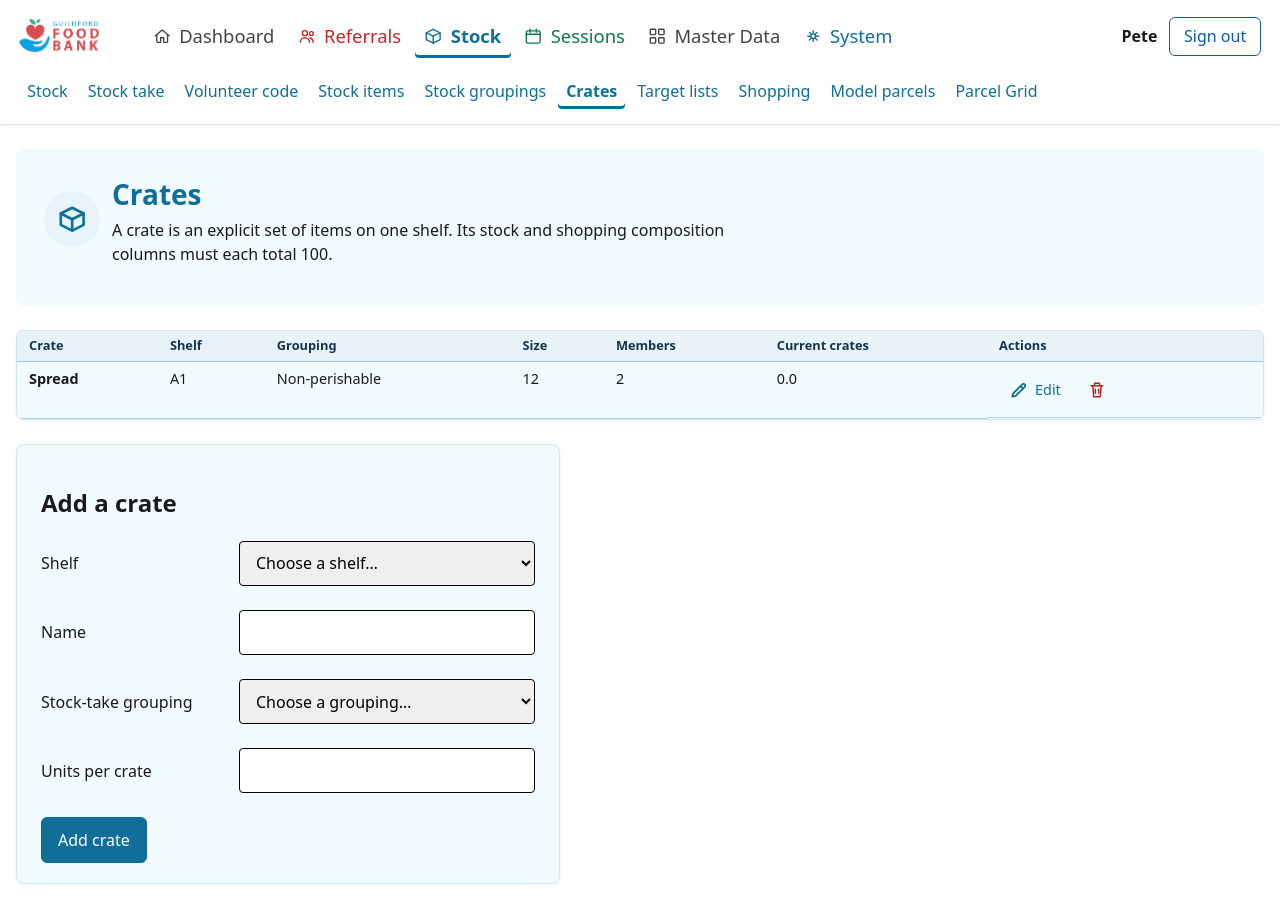
Test: crate deletion › treats the documented empty delete response as success and restores direct grouping
The image size is (1280, 900).
What coordinates should you click on to do the following:
click the button named "Delete Spread"
I would click on:
 (1097, 390)
Its box is [1075,368,1119,412].
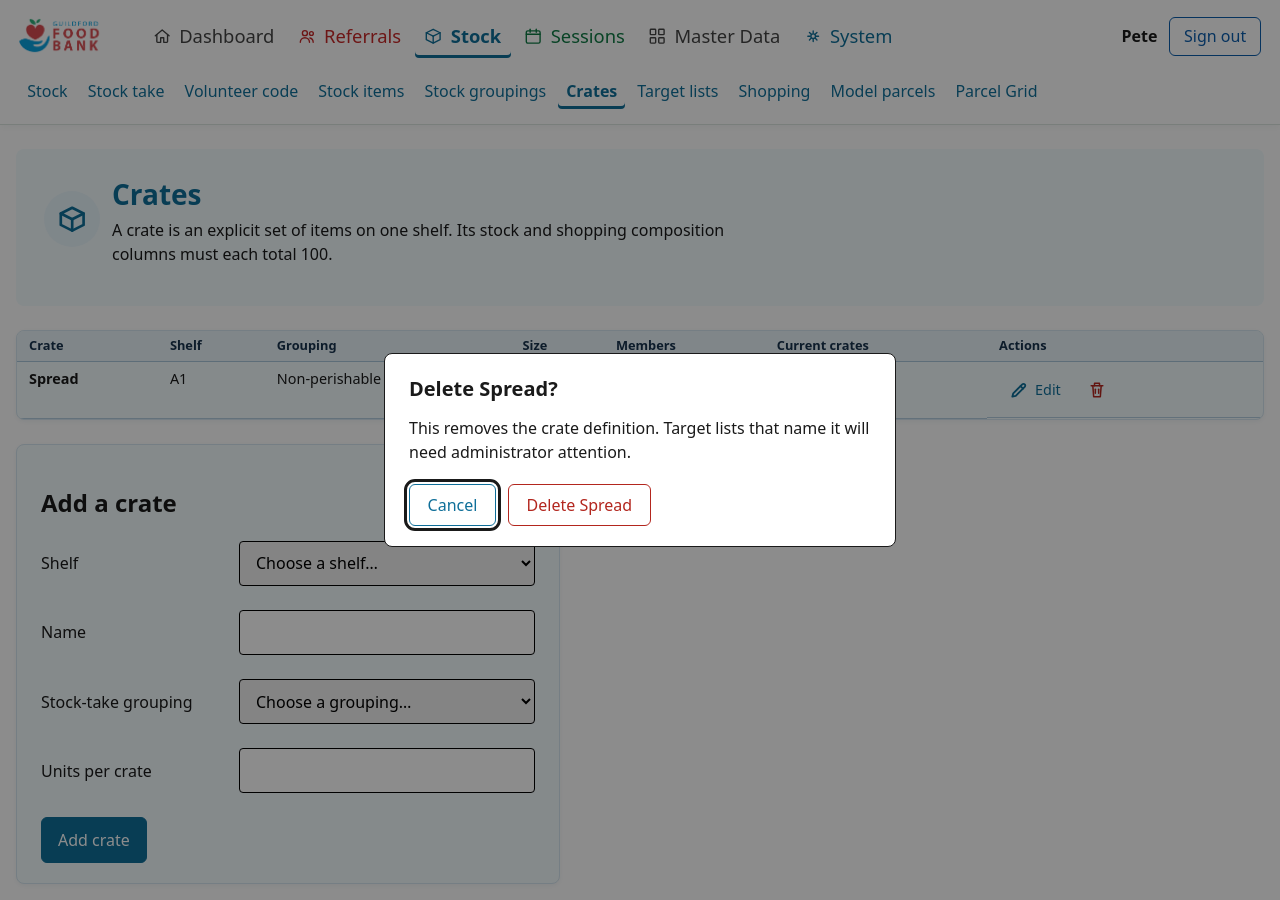
What coordinates should you click on to do the following:
click the button "Delete Spread"
I would click on:
 (579, 505)
Its box is [508,484,651,526].
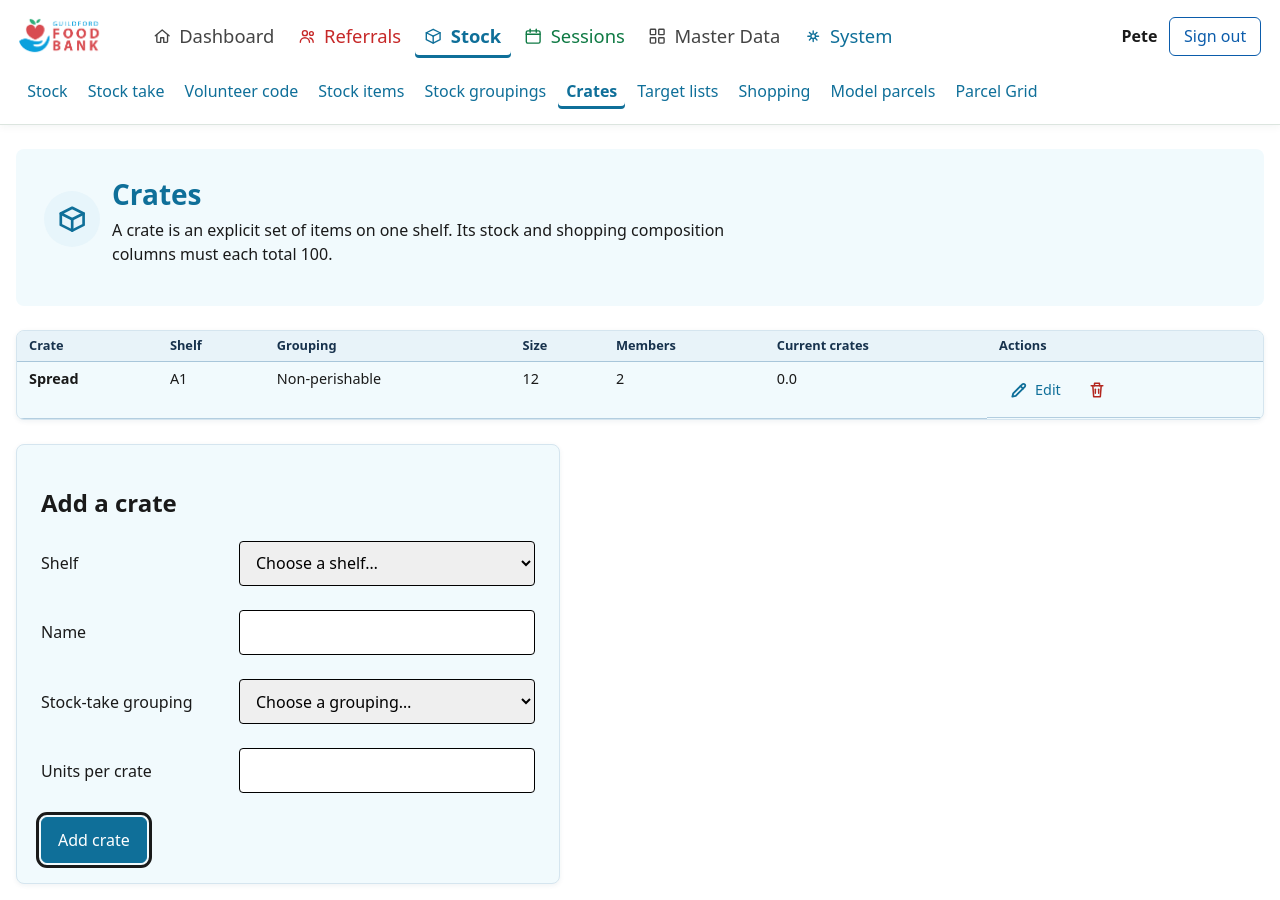
Now the heading "Delete Spread?" is gone
